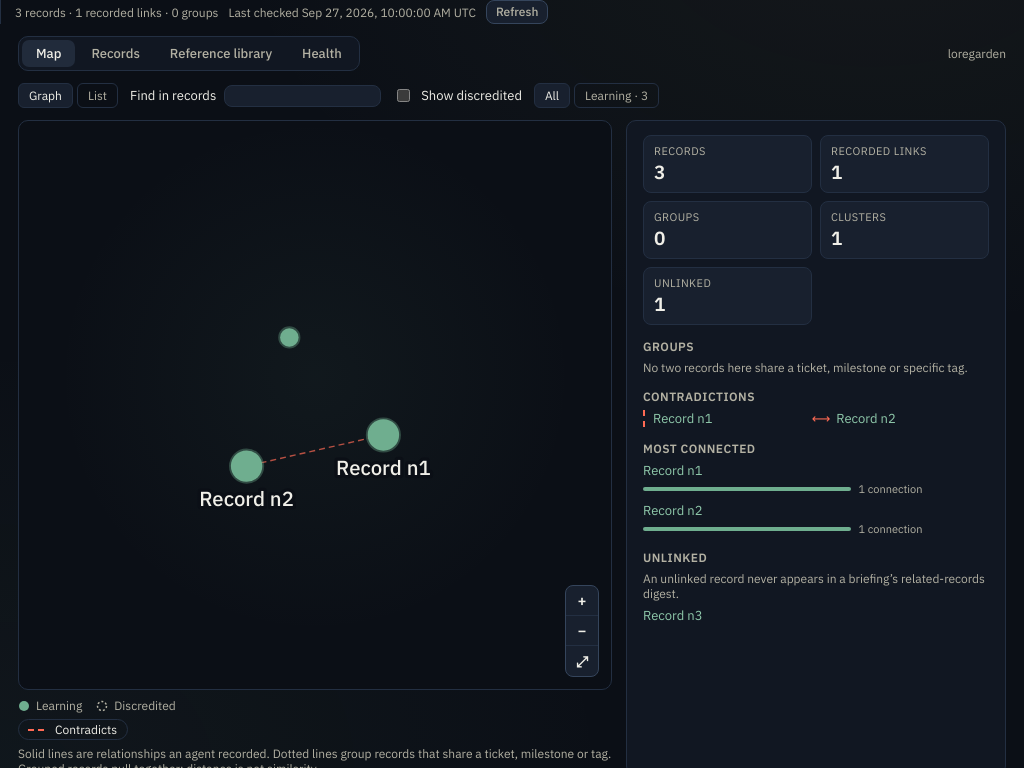
gives an overview beside the map: contradictions, busiest and unlinked
Check: the button "Record n1" below "Contradictions" is shown, box [653, 410, 806, 427]
Check: the button "Record n2" below "Contradictions" is shown, box [836, 410, 989, 427]
Click the button "Record n3" at [673, 616], box [643, 607, 702, 624]
(page scrolled)
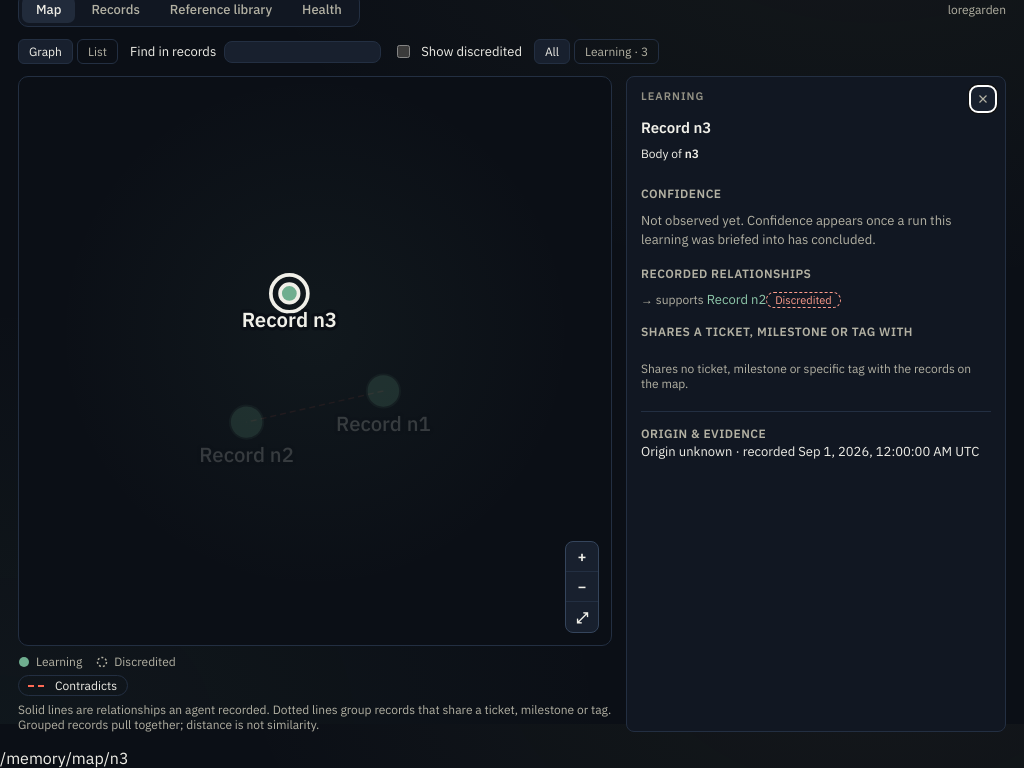
Check: the text with test id "where" reads "/memory/map/n3", box [0, 748, 128, 767]
